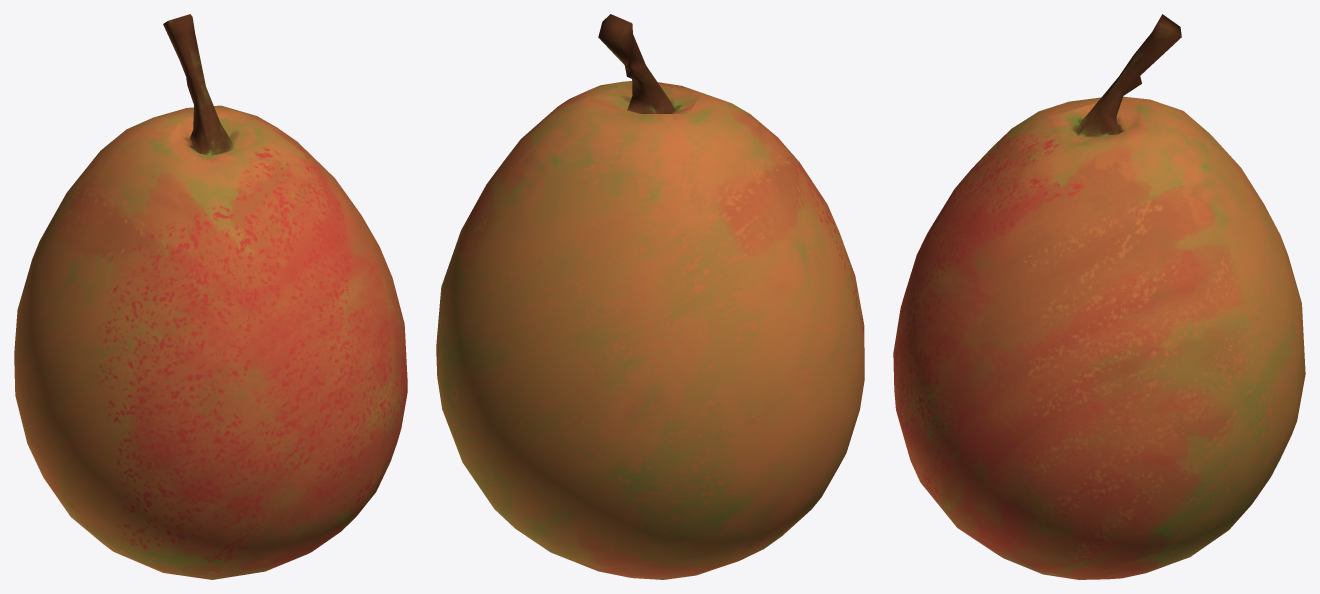
The model's file is mango.fbx.
The picture shows the model from 3 angles, left to right: view 1: azimuth 30°, elevation 25°; view 2: azimuth 150°, elevation 25°; view 3: azimuth 270°, elevation 25°; orthographic projection. The views are drawn at different scales.
Parts seen in each view (by area): view 1: mango; view 2: mango; view 3: mango.
Part boxes in pixels (box(x1,y1,x2,y2)): mango: box(14, 14, 407, 579); mango: box(436, 14, 864, 579); mango: box(893, 14, 1305, 579).
Bounding box in the file's own units: 3.85 × 5.6 × 3.88.
